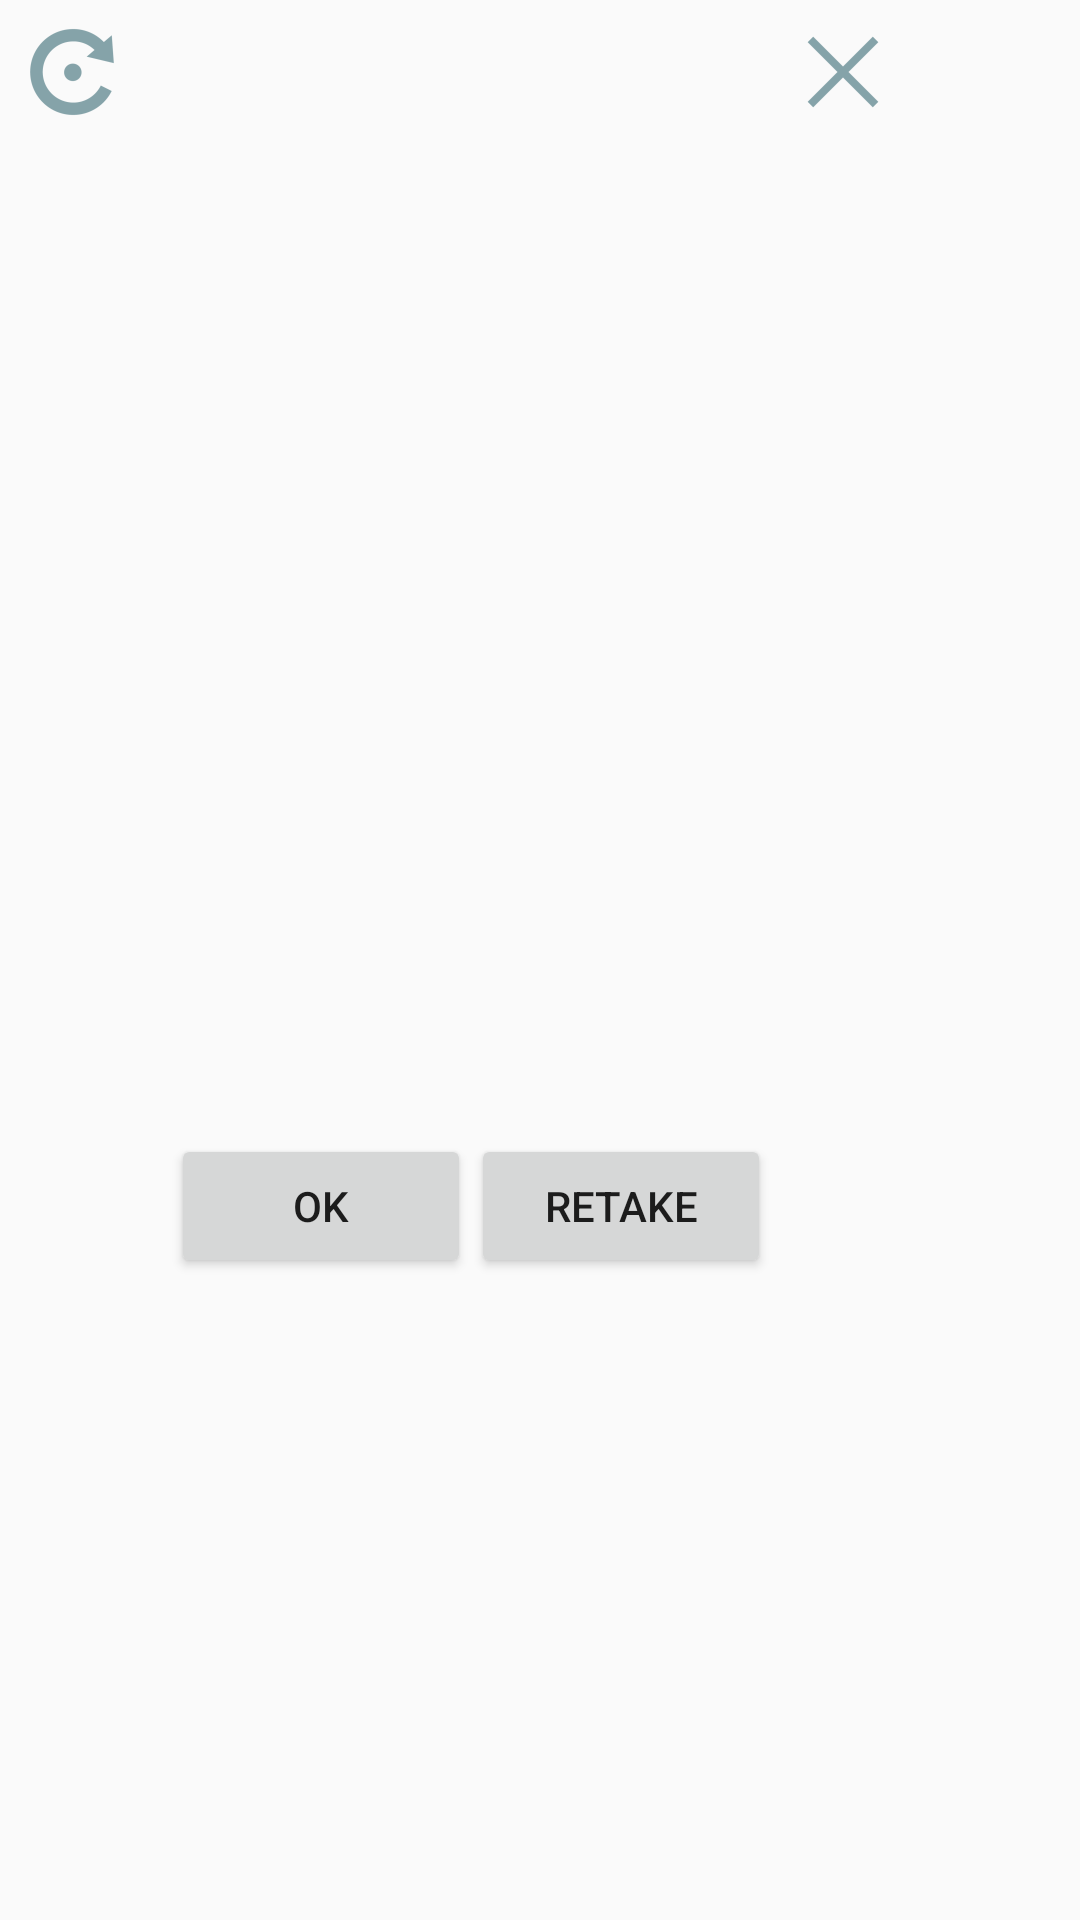

Where to tap for icons on this 1080 x 1920 app screen, as (x,y):
cross: (843,72)
rotate: (72,72)
